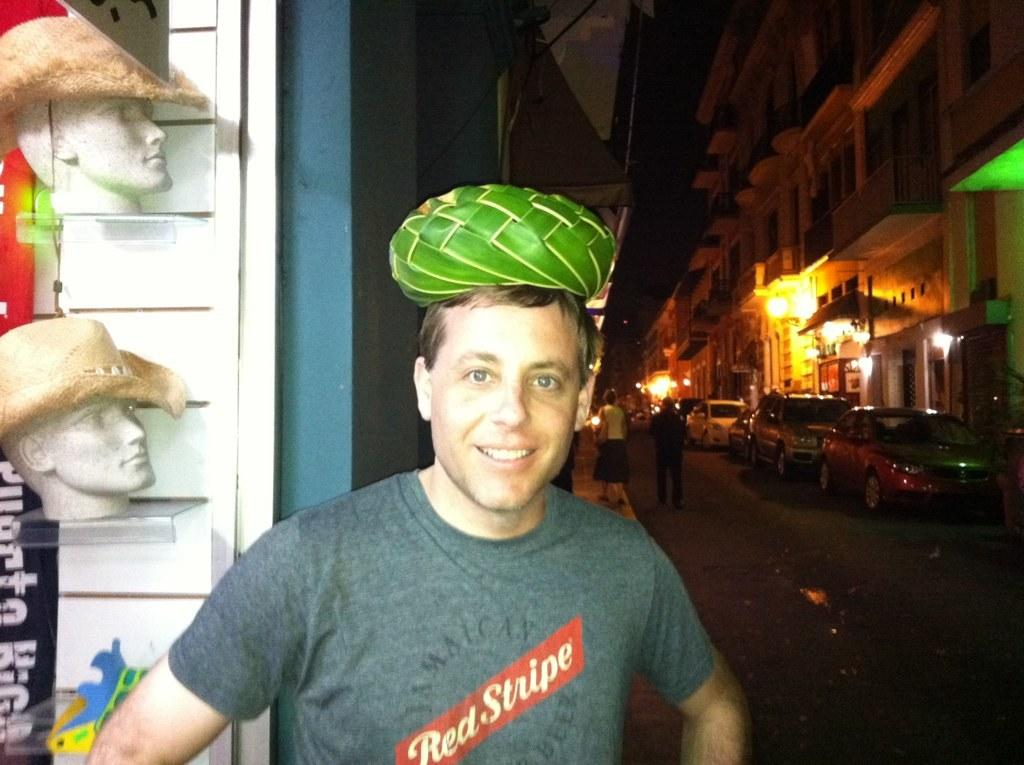Hat: (0, 19, 209, 157), (0, 321, 186, 443)
